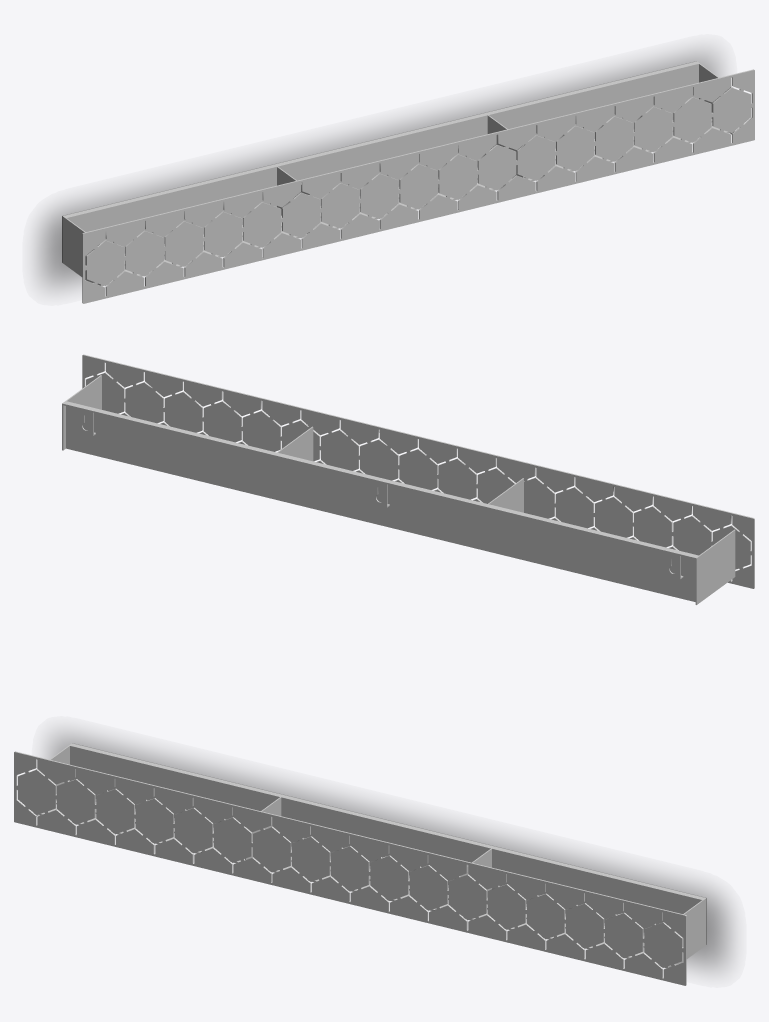
The model's file is bee-mono.4cea6ffb92.ar.glb.
The picture shows the model from 3 angles, top to bottom: view 1: azimuth 30°, elevation 25°; view 2: azimuth 150°, elevation 25°; view 3: azimuth 330°, elevation 25°; orthographic projection.
Visible parts, largest first — view 1: NAUO1, object 2; view 2: NAUO1; view 3: NAUO1, object 2.
Part boxes in pixels (<box>): NAUO1: <box>62,61,754,303</box>; object 2: <box>36,51,722,288</box>; NAUO1: <box>62,354,754,604</box>; NAUO1: <box>14,743,706,985</box>; object 2: <box>46,733,732,970</box>.
Bounding box in the file's own units: 0.98 × 0.17 × 0.092.
2 materials, 1 textured.
